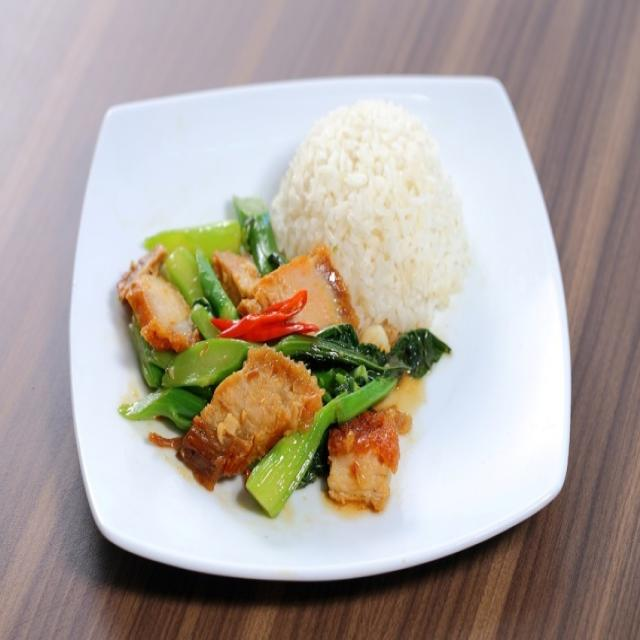carb: (275, 103, 468, 337)
meat: (177, 347, 326, 487), (241, 251, 355, 331), (328, 409, 412, 506), (122, 251, 196, 345), (214, 258, 258, 300)
vegetable: (116, 198, 456, 511)
